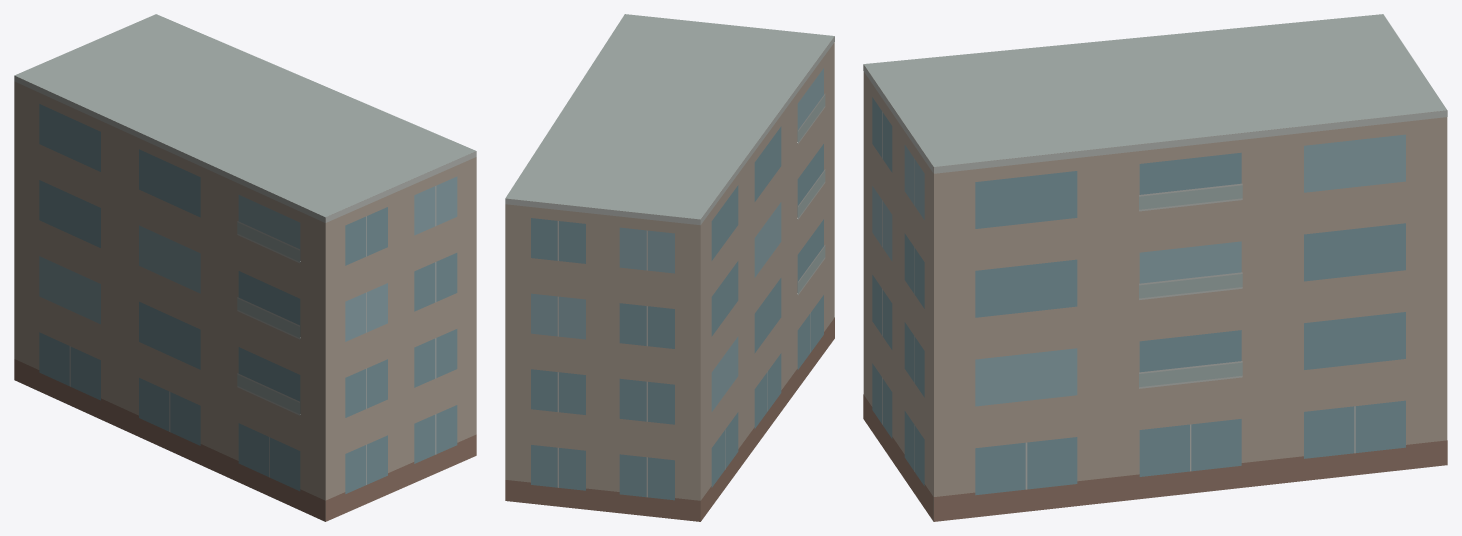
File: survey-upis-32857061.glb
The picture shows the model from 3 angles, left to right: view 1: azimuth 30°, elevation 25°; view 2: azimuth 150°, elevation 25°; view 3: azimuth 270°, elevation 25°; orthographic projection. The views are drawn at different scales.
Parts seen in each view (by area): view 1: survey-upis-32857061.tmp; view 2: survey-upis-32857061.tmp; view 3: survey-upis-32857061.tmp.
Part boxes in pixels (<box>): survey-upis-32857061.tmp: <box>14,14,476,521</box>; survey-upis-32857061.tmp: <box>505,14,834,521</box>; survey-upis-32857061.tmp: <box>863,14,1447,521</box>.
Bounding box in the file's own units: 11.85 × 12.8 × 19.1.
